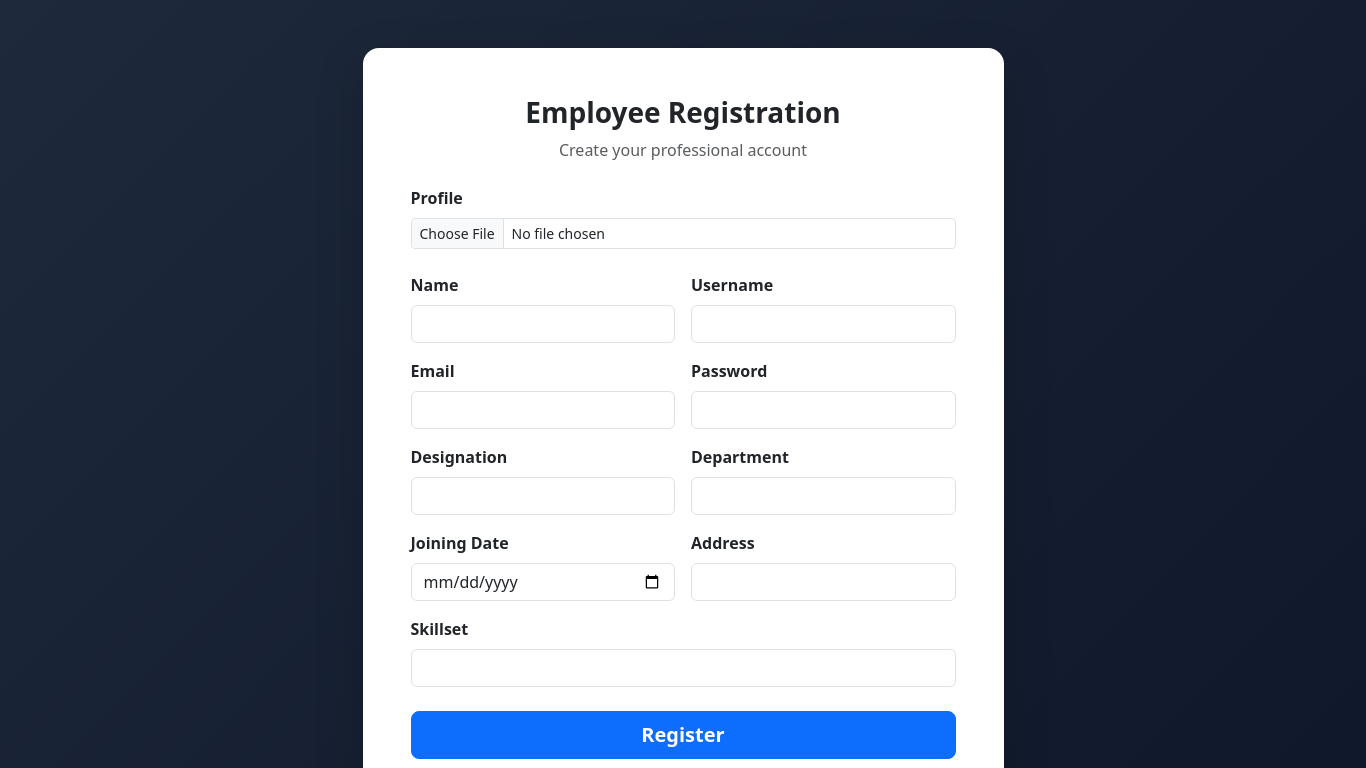
Scenario: Register Page - Full Flow › submits form successfully
Fill required fields (exact match regex)
In the field labelled "Name": (543, 324) 410,305 -> 675,343, type "John Doe"
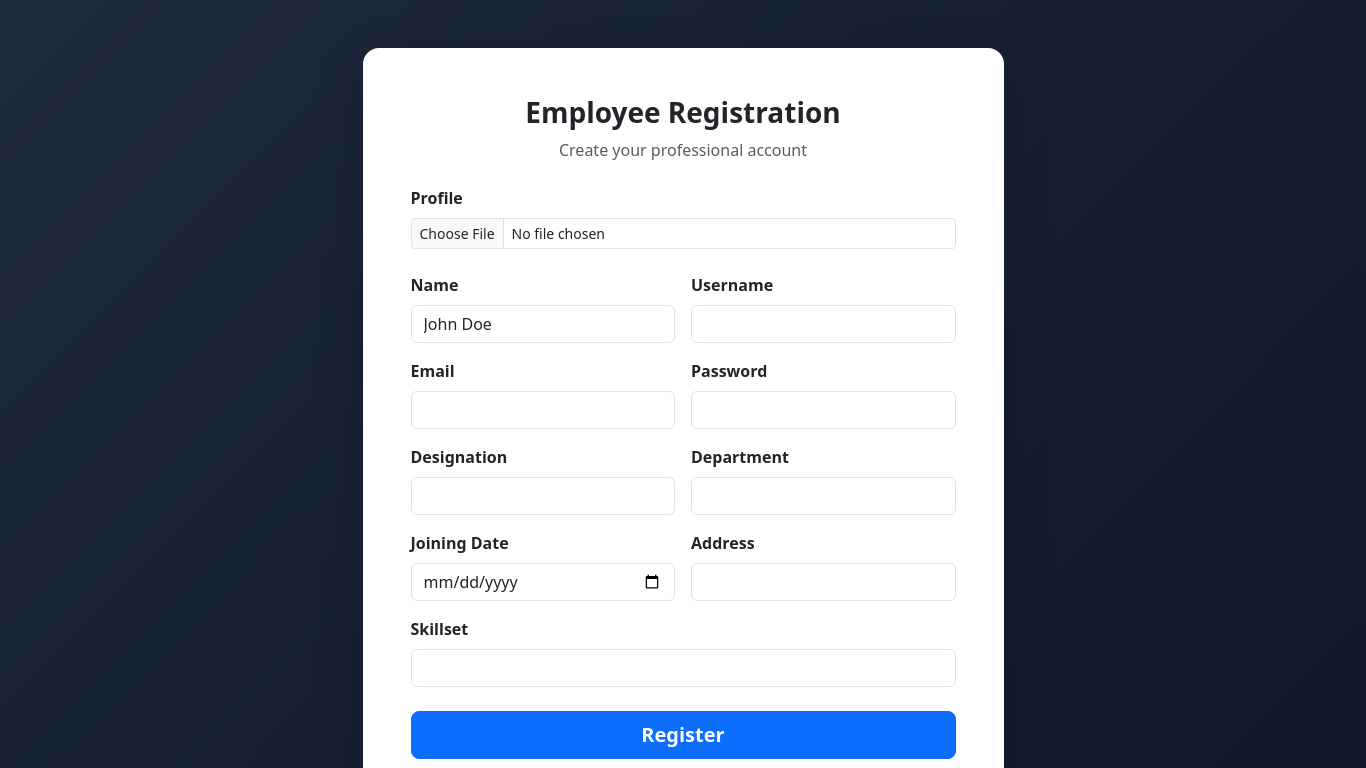
In the field labelled "Username": (823, 324) 691,305 -> 956,343, type "john123"
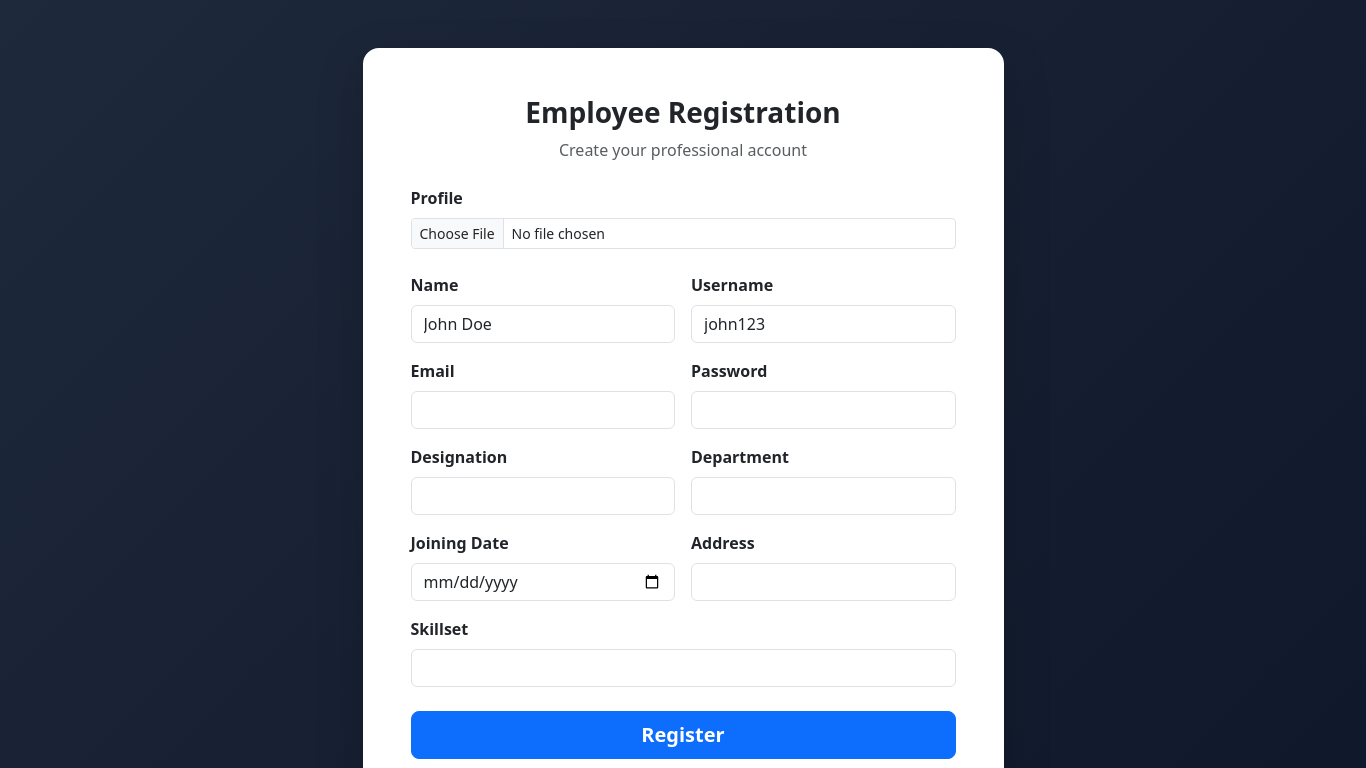
In the field labelled "Email": (543, 410) 410,391 -> 675,429, type "john@test.com"
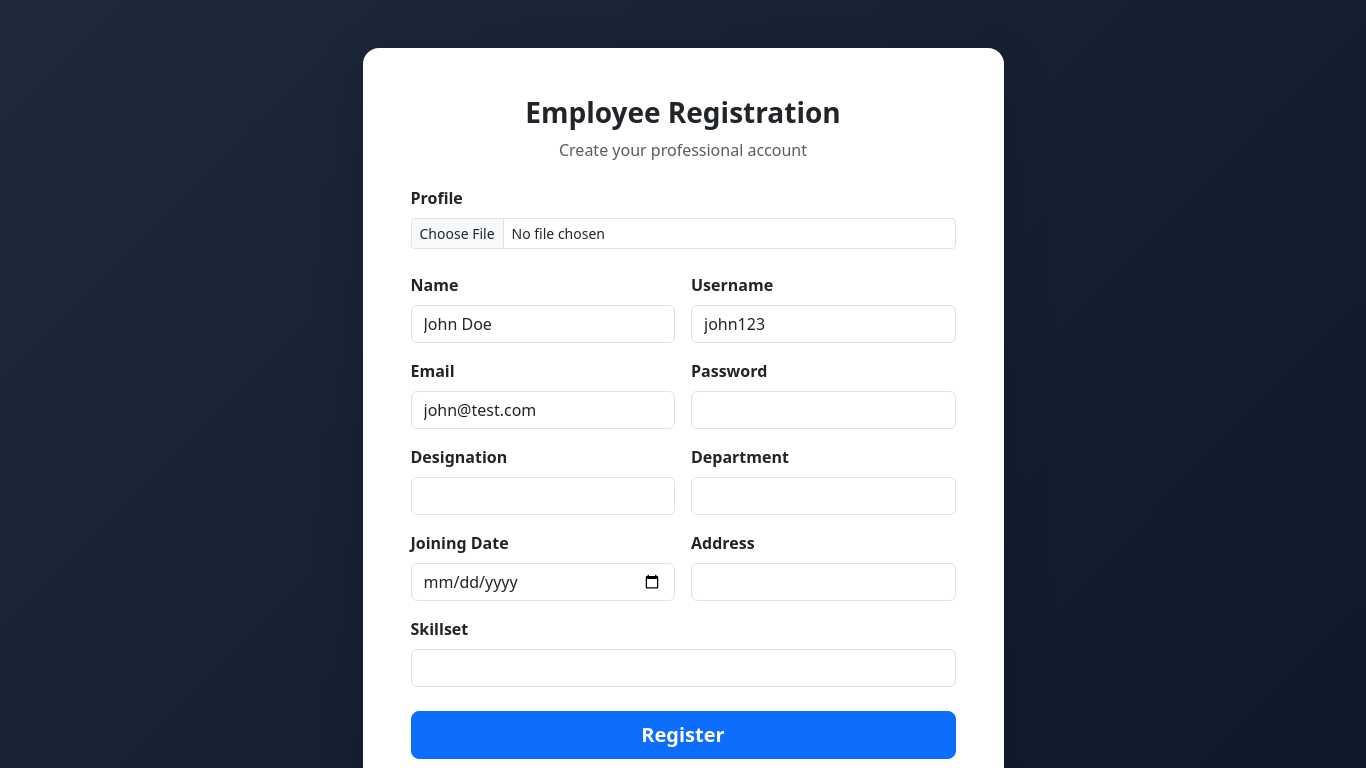
In the password field labelled "Password": (823, 410) 691,391 -> 956,429, type "123456"
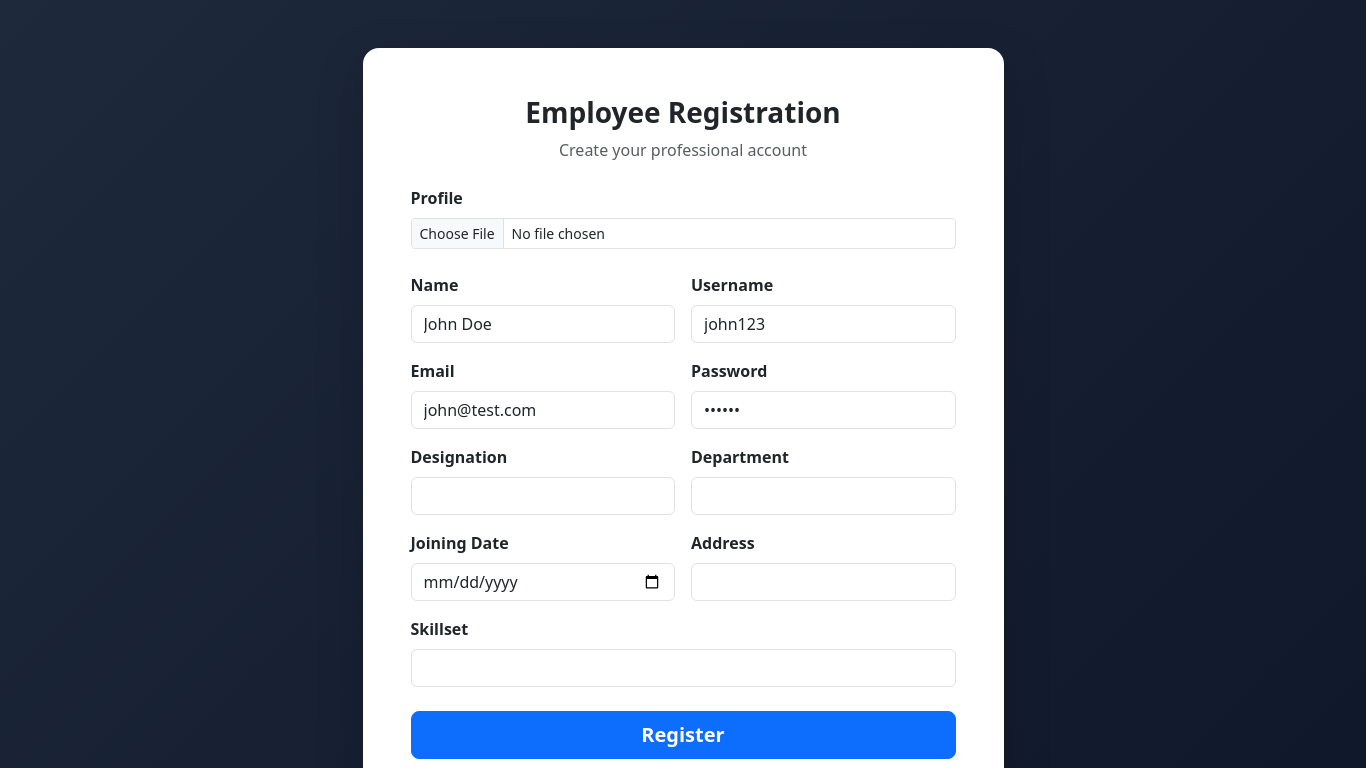
Click Register button
Click the button "Register": click(683, 735) 410,711 -> 956,759
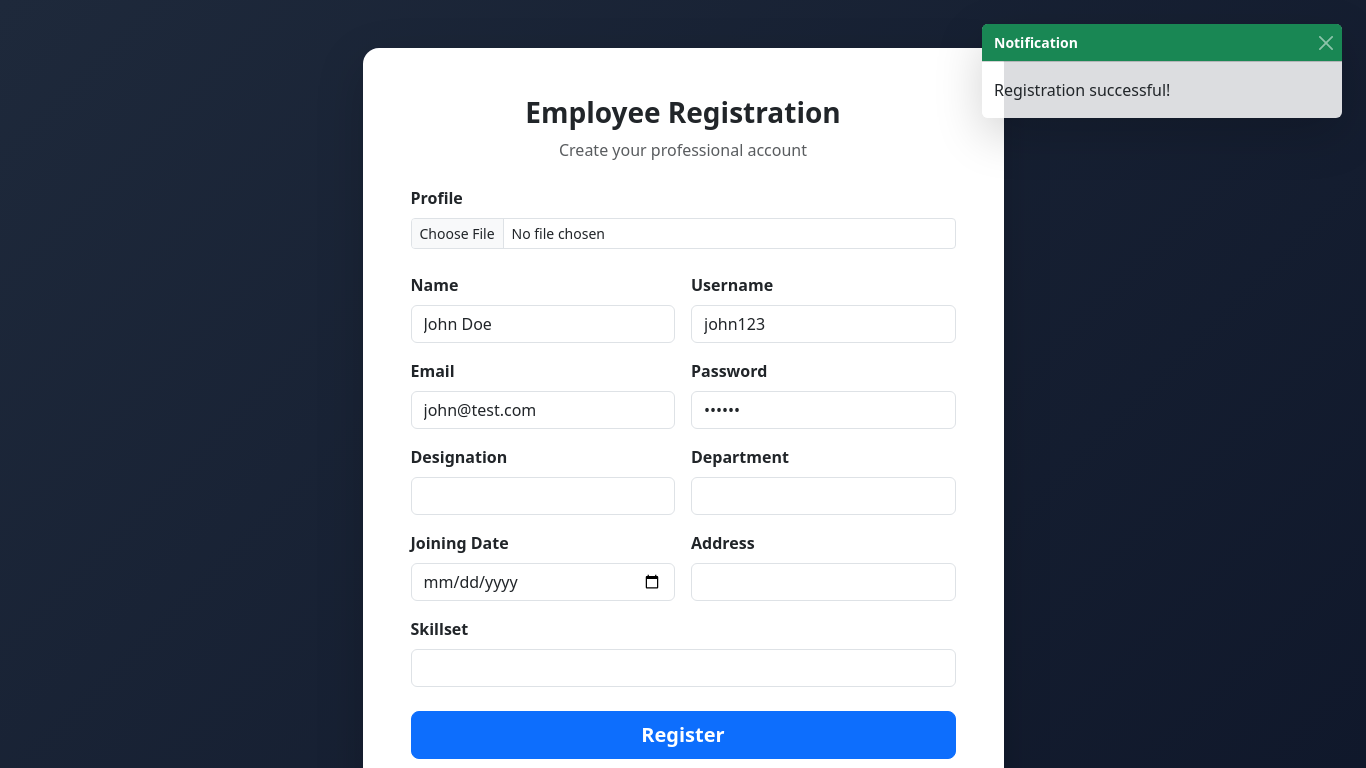
Expected: the text "Registration successful!" is shown, 994,79 -> 1170,101
